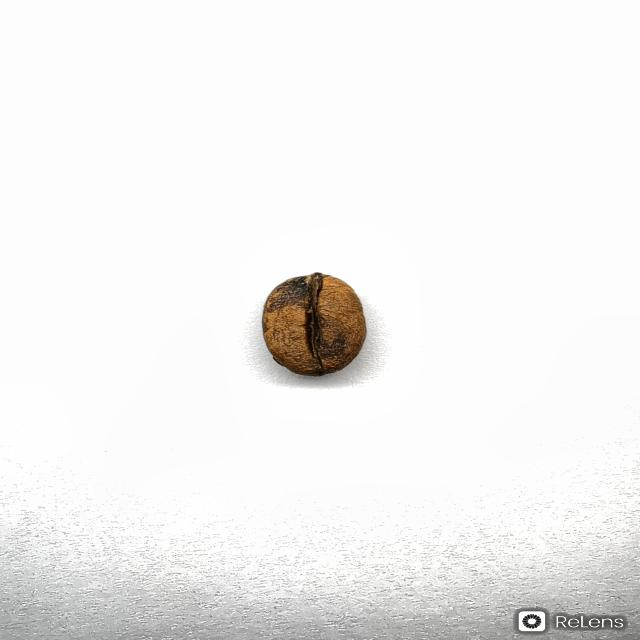Scorched: (260, 271, 368, 377)
